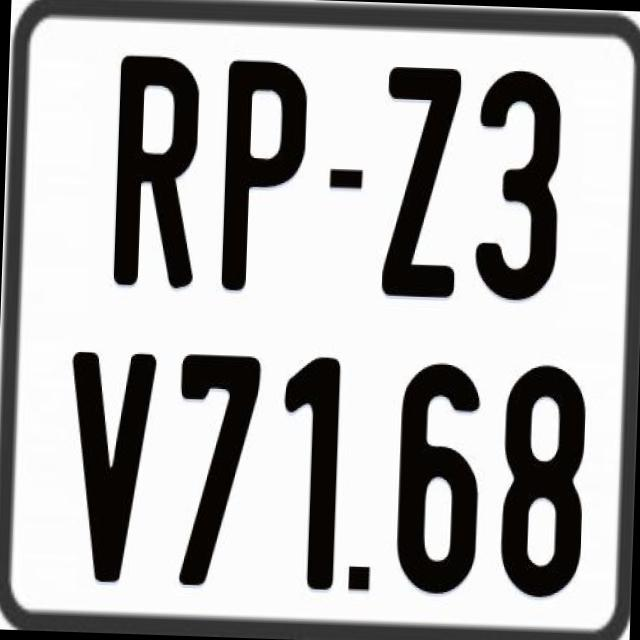1: (275, 351, 343, 586)
3: (472, 70, 566, 304)
6: (392, 361, 480, 601)
7: (172, 352, 258, 592)
8: (496, 359, 592, 595)
P: (218, 54, 305, 297)
R: (110, 54, 198, 288)
V: (61, 348, 152, 586)
Z: (380, 65, 462, 302)
